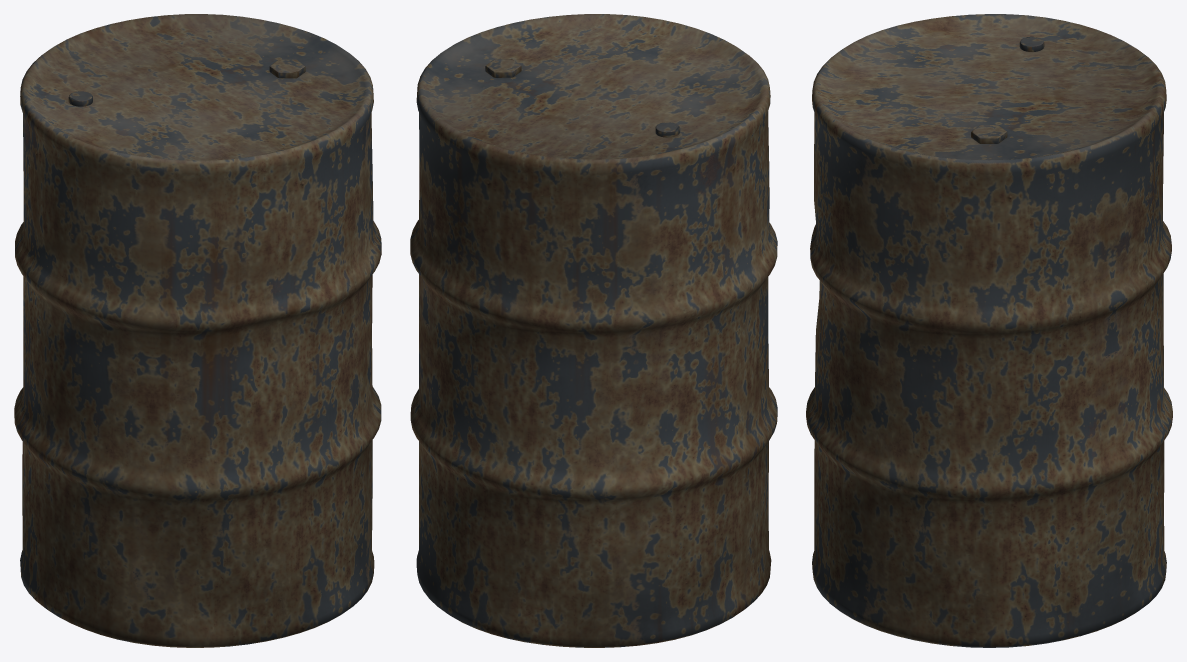
Rendered from Barrel.fbx.
The picture shows the model from 3 angles, left to right: view 1: azimuth 30°, elevation 25°; view 2: azimuth 150°, elevation 25°; view 3: azimuth 270°, elevation 25°; orthographic projection.
Parts seen in each view (by area): view 1: Barrel_Mesh; view 2: Barrel_Mesh; view 3: Barrel_Mesh.
Part boxes in pixels (x1,y1,x2,y2): Barrel_Mesh: (14,14,381,647); Barrel_Mesh: (410,14,777,647); Barrel_Mesh: (806,14,1172,647).
Bounding box in the file's own units: 0.6034 × 0.8814 × 0.5994.
